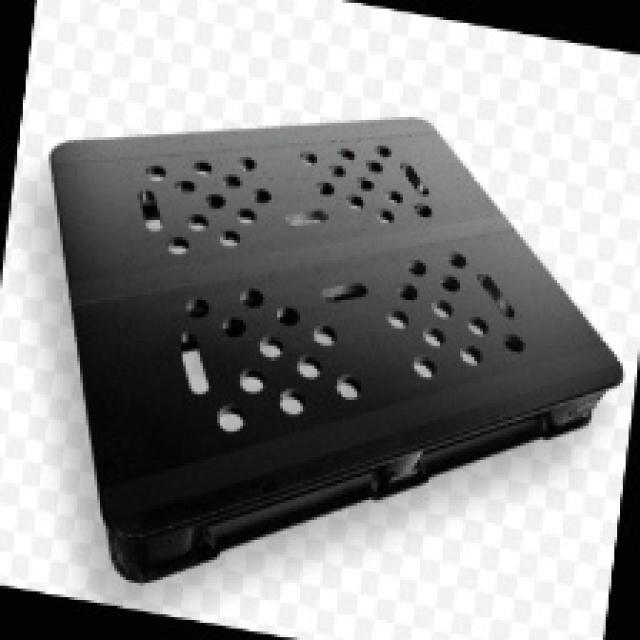igps: (44, 104, 628, 591)
